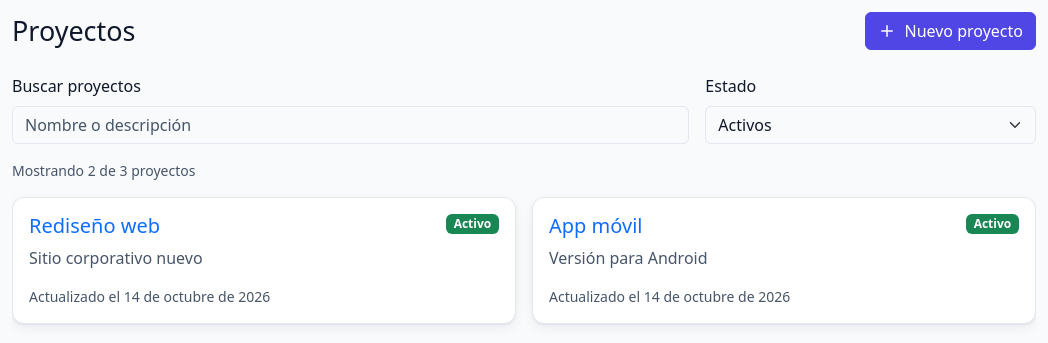
Test case: PaginaProyectos › el filtro "Archivados" muestra los archivados
The width and height of the screenshot is (1048, 343).
Select "Archivados" in the dropdown labelled "Estado" at (871, 125), box 705,106 -> 1036,144
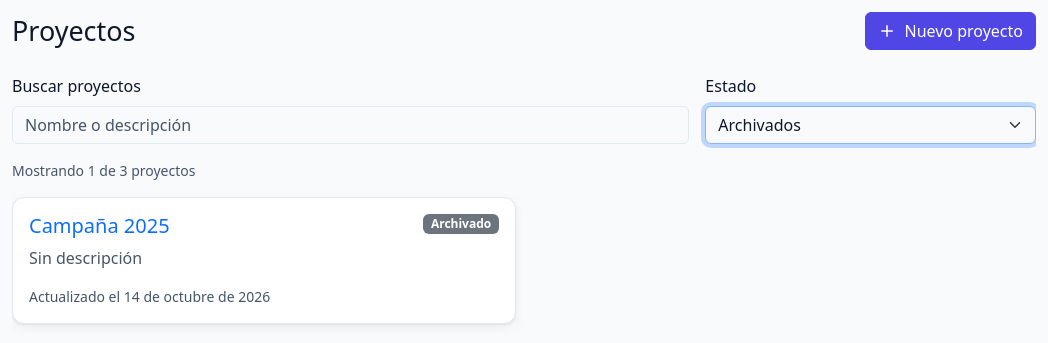
Check: the link "Campaña 2025" is shown, box 29,212 -> 170,239
Check: the link "Rediseño web" is gone
